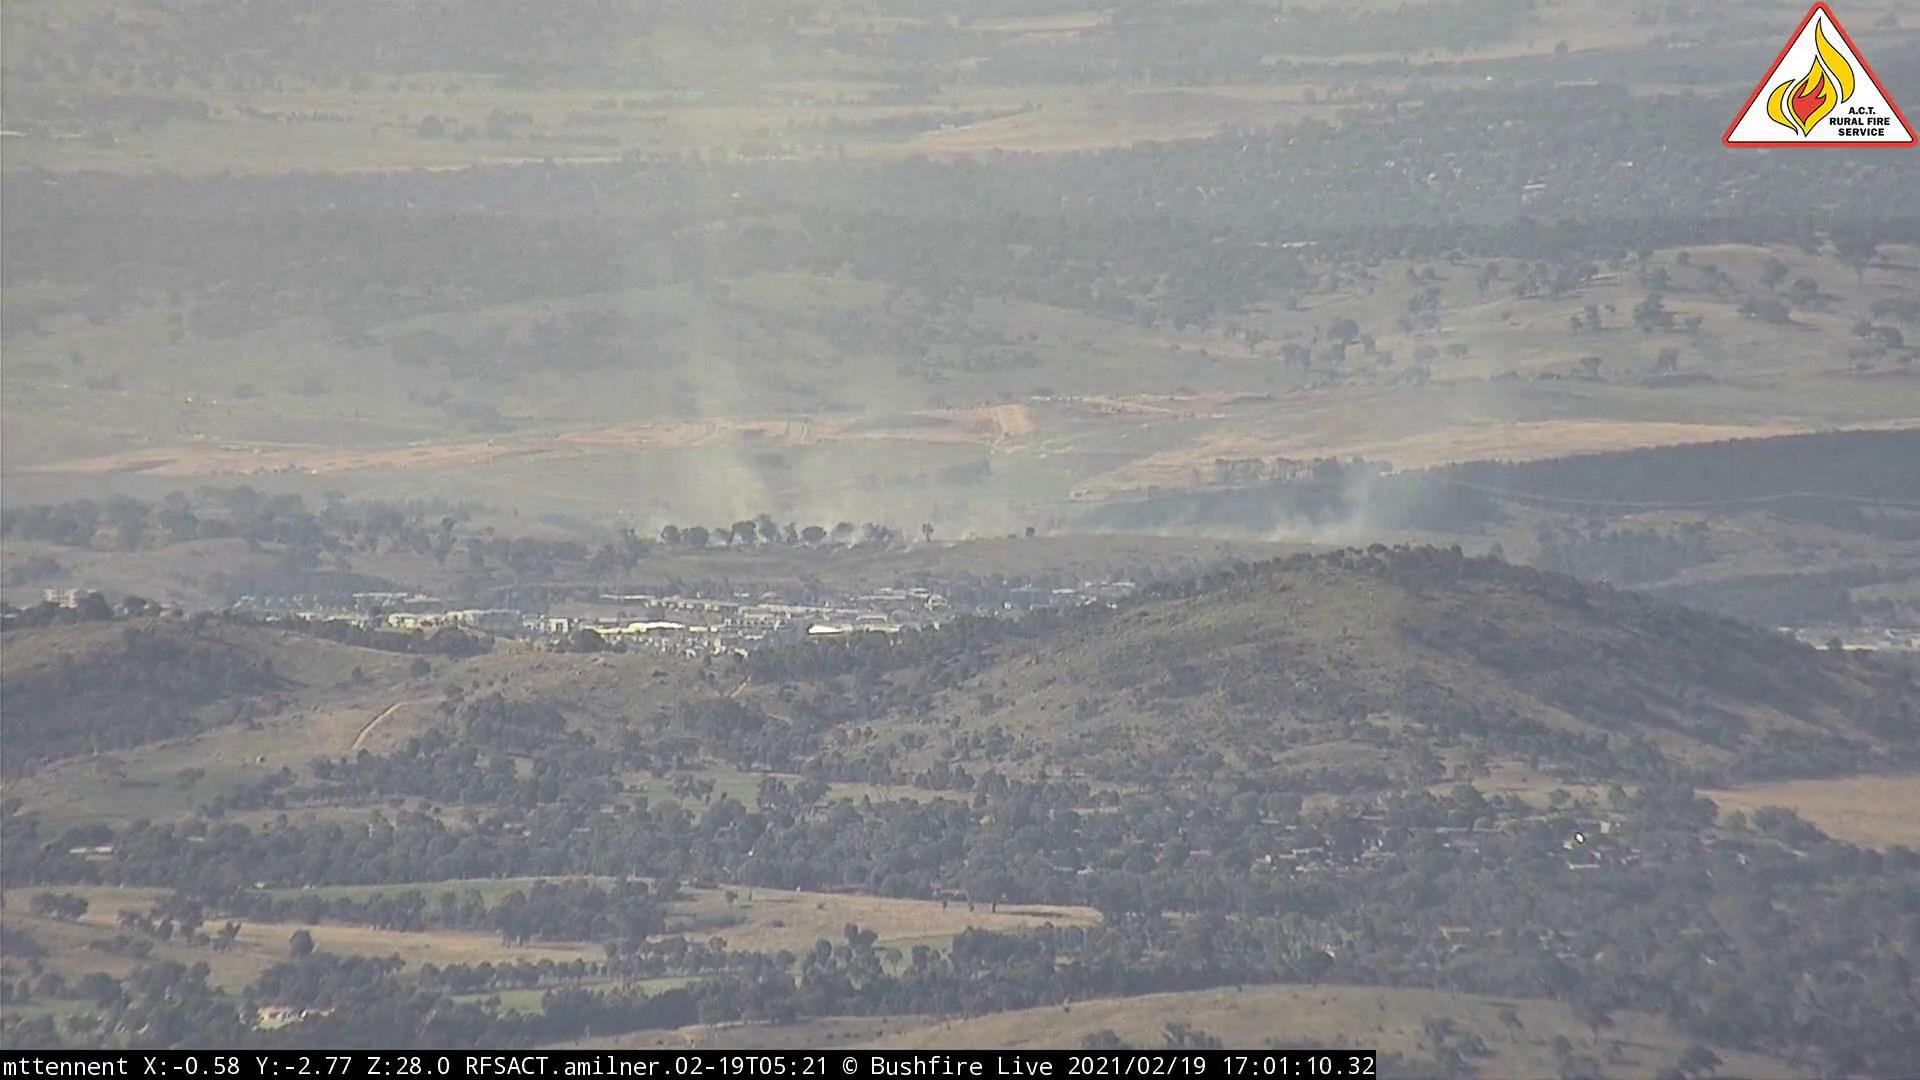Smoke: (625, 301, 1021, 553), (1217, 368, 1482, 553)
